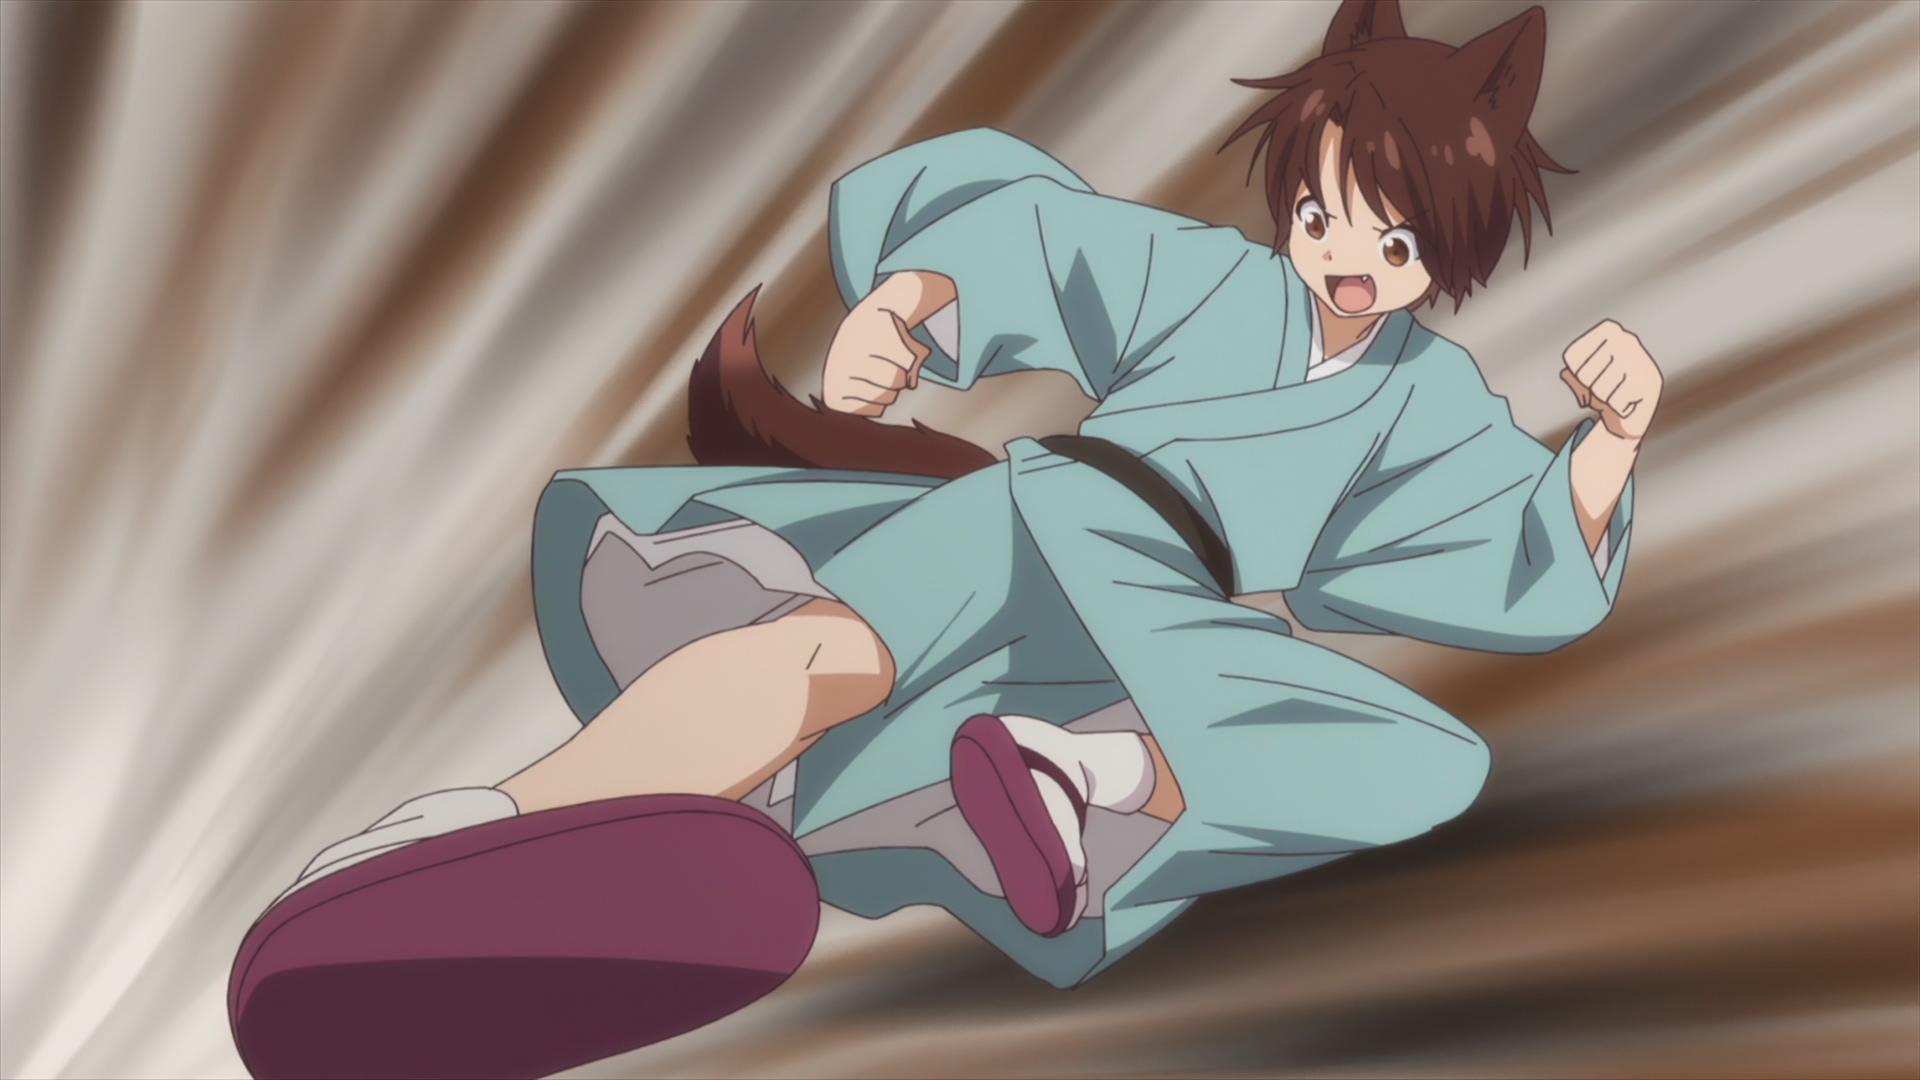枣: (228, 1, 1663, 1080)
